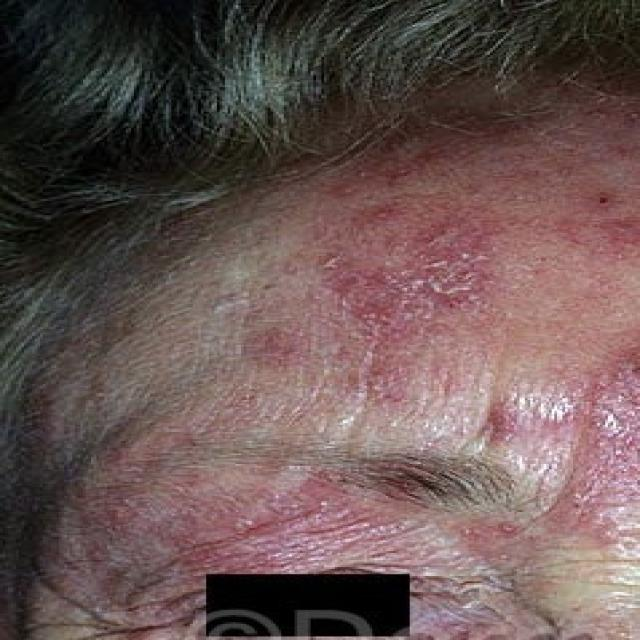Rosacea: (213, 195, 508, 363), (487, 374, 640, 518)
